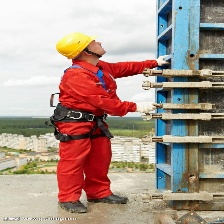helmet: (56, 33, 108, 58)
person: (52, 32, 146, 214)
vest: (58, 64, 135, 146)
